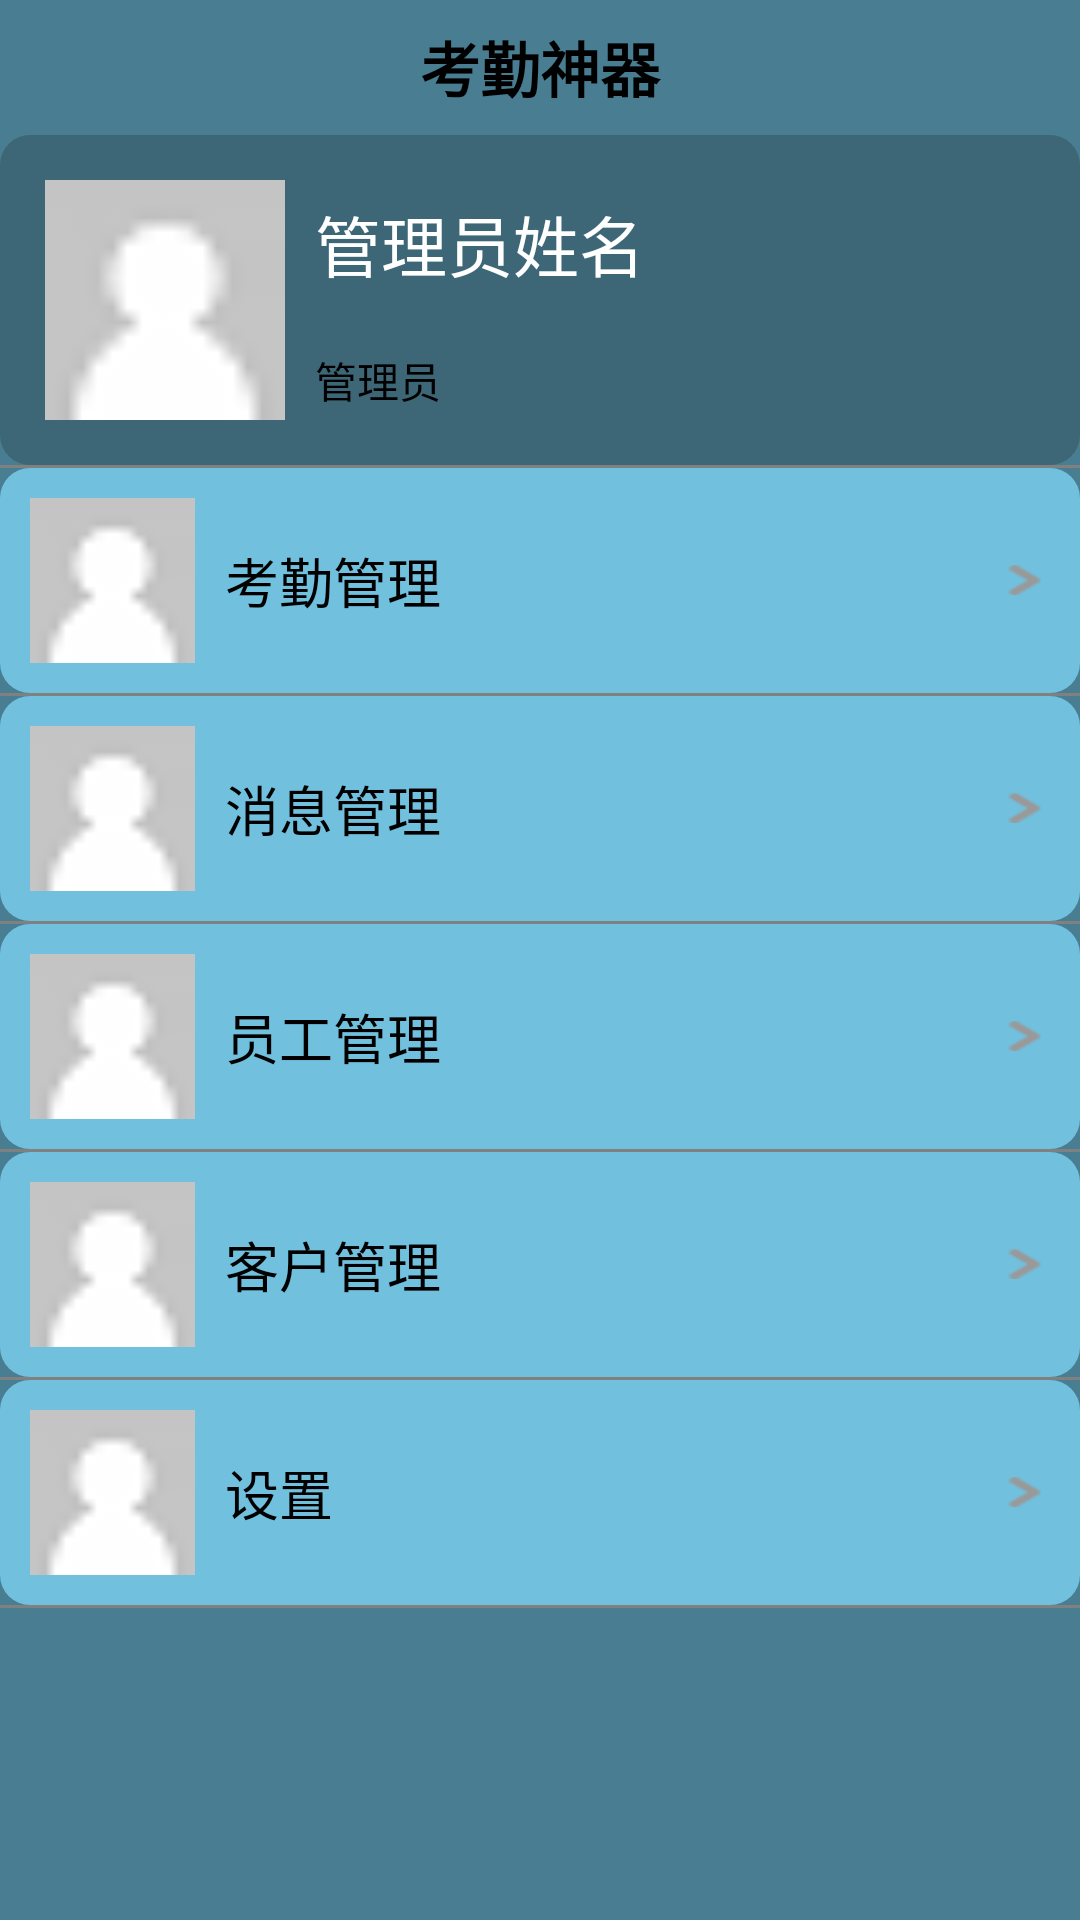

Where icons sit on this 1080 x 1920 app screen, as (x1, y1, x2, y2):
right: (1009, 565, 1040, 595), (1009, 793, 1040, 823), (1009, 1021, 1040, 1051), (1009, 1249, 1040, 1279), (1009, 1477, 1040, 1507)
setting head: (45, 180, 285, 420), (30, 498, 195, 663), (30, 726, 195, 891), (30, 954, 195, 1119), (30, 1182, 195, 1347), (30, 1410, 195, 1575)
